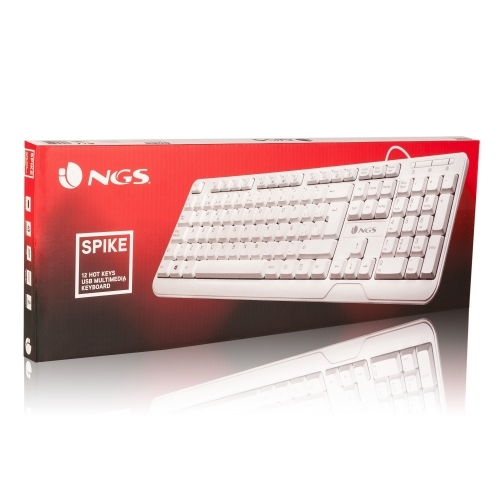Teclado: (147, 148, 462, 312)
